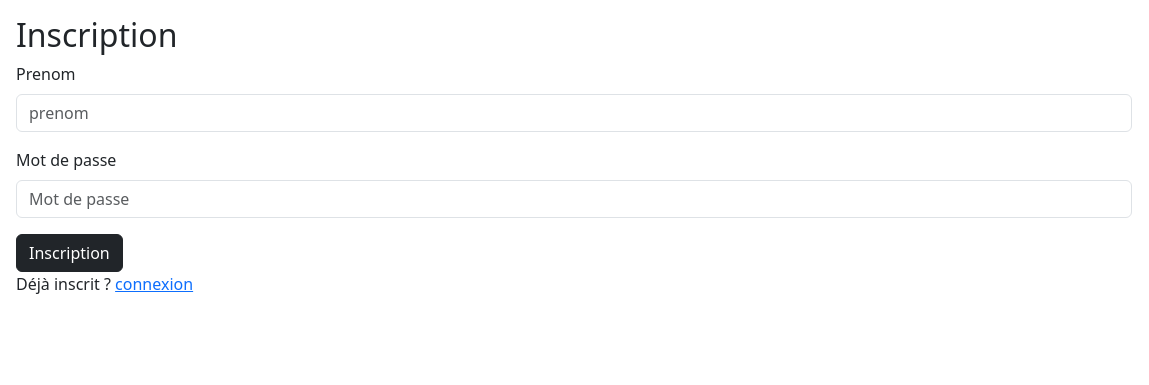
Test case: inscription page › Should return error when user already exist
Type "123" into the password field named "password" at (574, 199), box [16,180,1132,218]
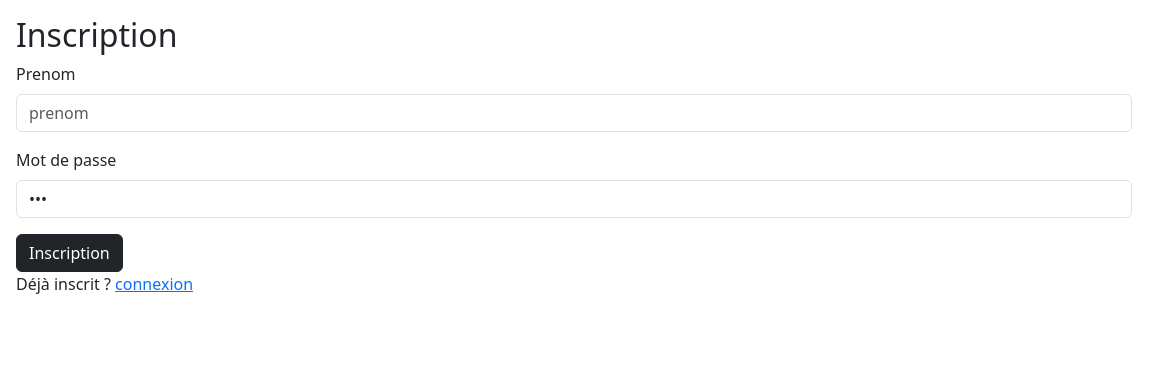
Type "Thibaut" into the field named "nickname" at (574, 113), box [16,94,1132,132]
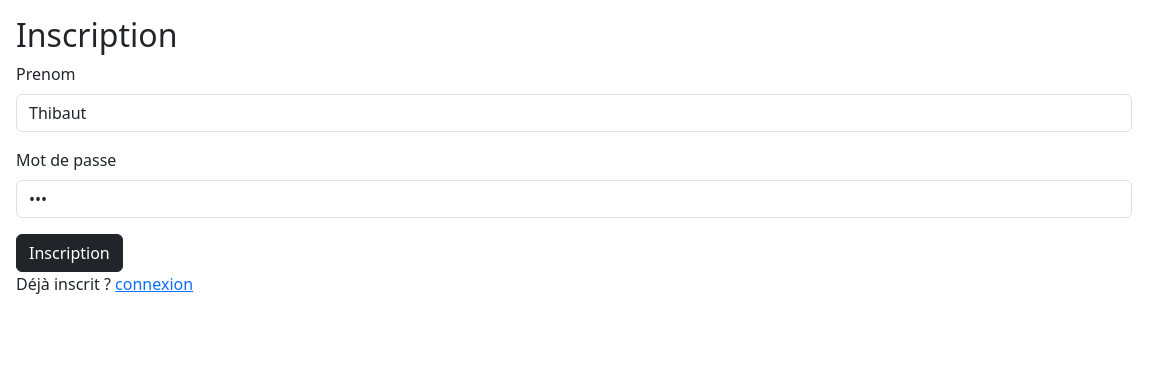
Click the button with aria-label "registerButton" at (69, 253), box [16,234,123,272]
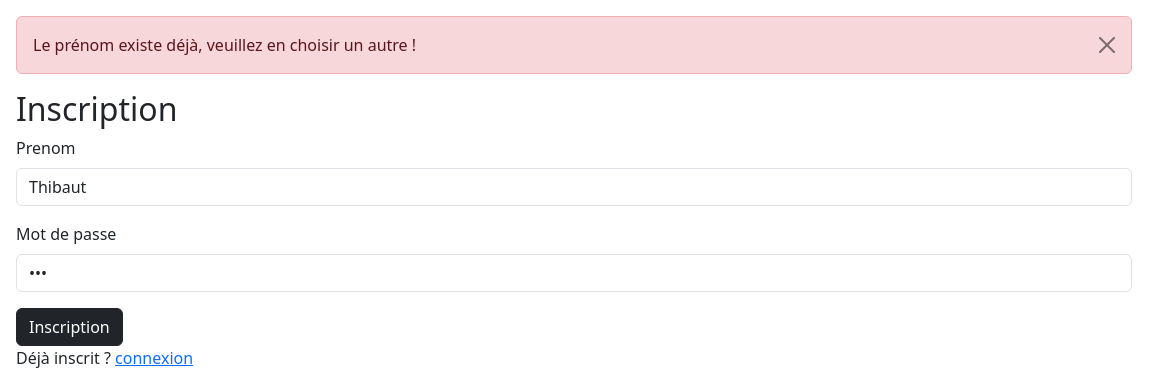
Result: the text "Le prénom existe déjà, veuillez en choisir un autre !" is enabled at [16,16,1132,74]
